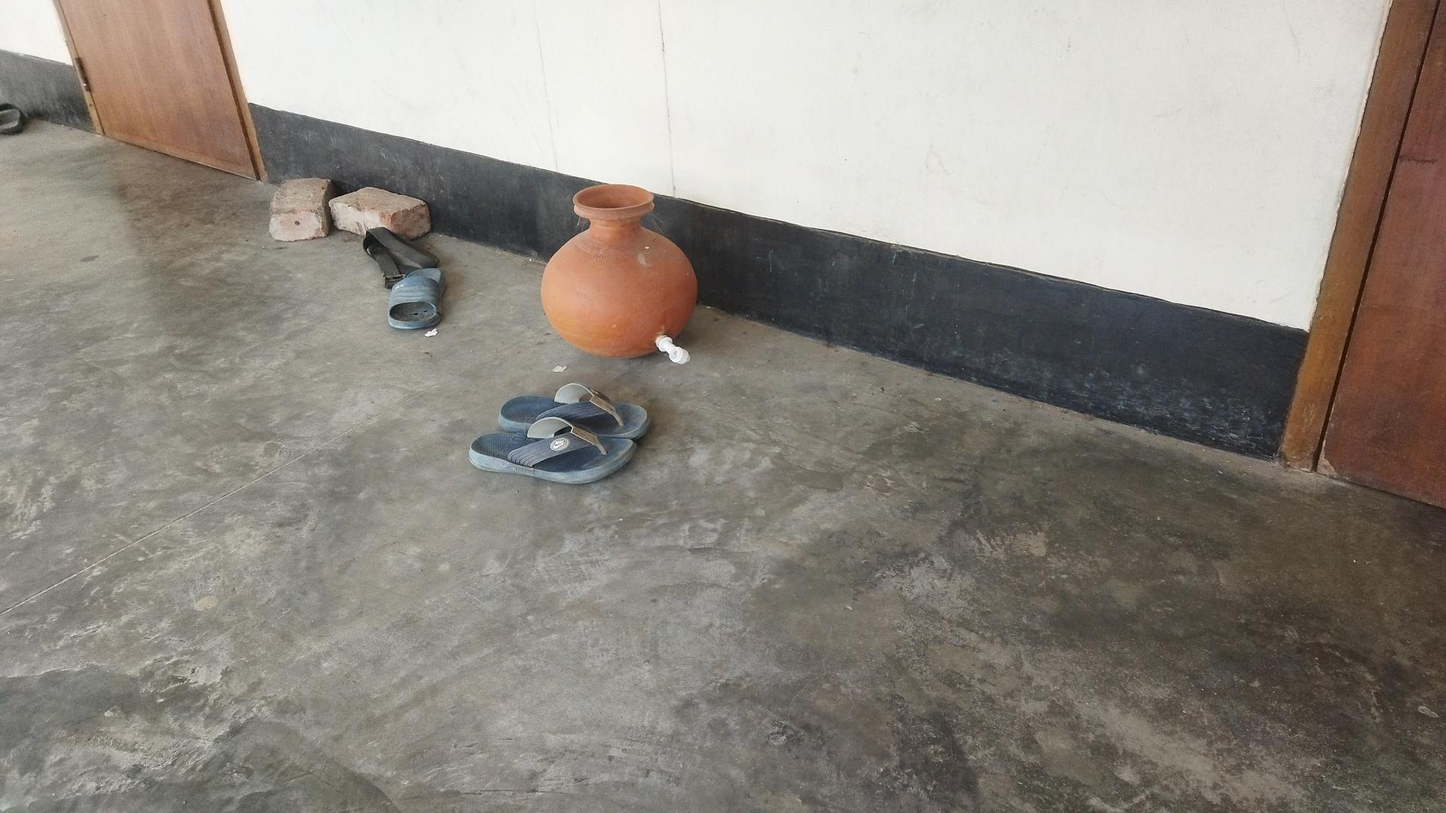Footwear: (457, 381, 649, 485), (376, 252, 451, 318)
